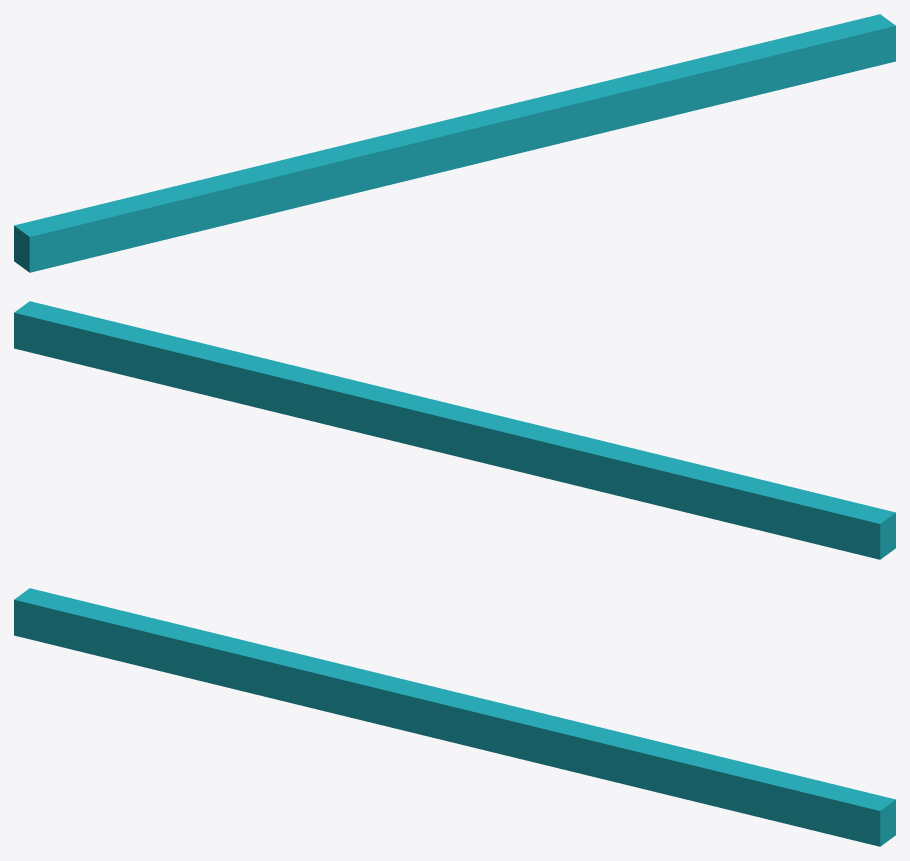
3 renders of one model, top to bottom at view 1: azimuth 30°, elevation 25°; view 2: azimuth 150°, elevation 25°; view 3: azimuth 330°, elevation 25°, orthographic.
Parts seen in each view (by area): view 1: geometry_0; view 2: geometry_0; view 3: geometry_0.
Boxes of the visible parts, <box> form: geometry_0: <box>14,14,895,272</box>; geometry_0: <box>14,301,895,559</box>; geometry_0: <box>14,588,895,846</box>.
Bounding box in the file's own units: 31.66 × 1.25 × 1.
